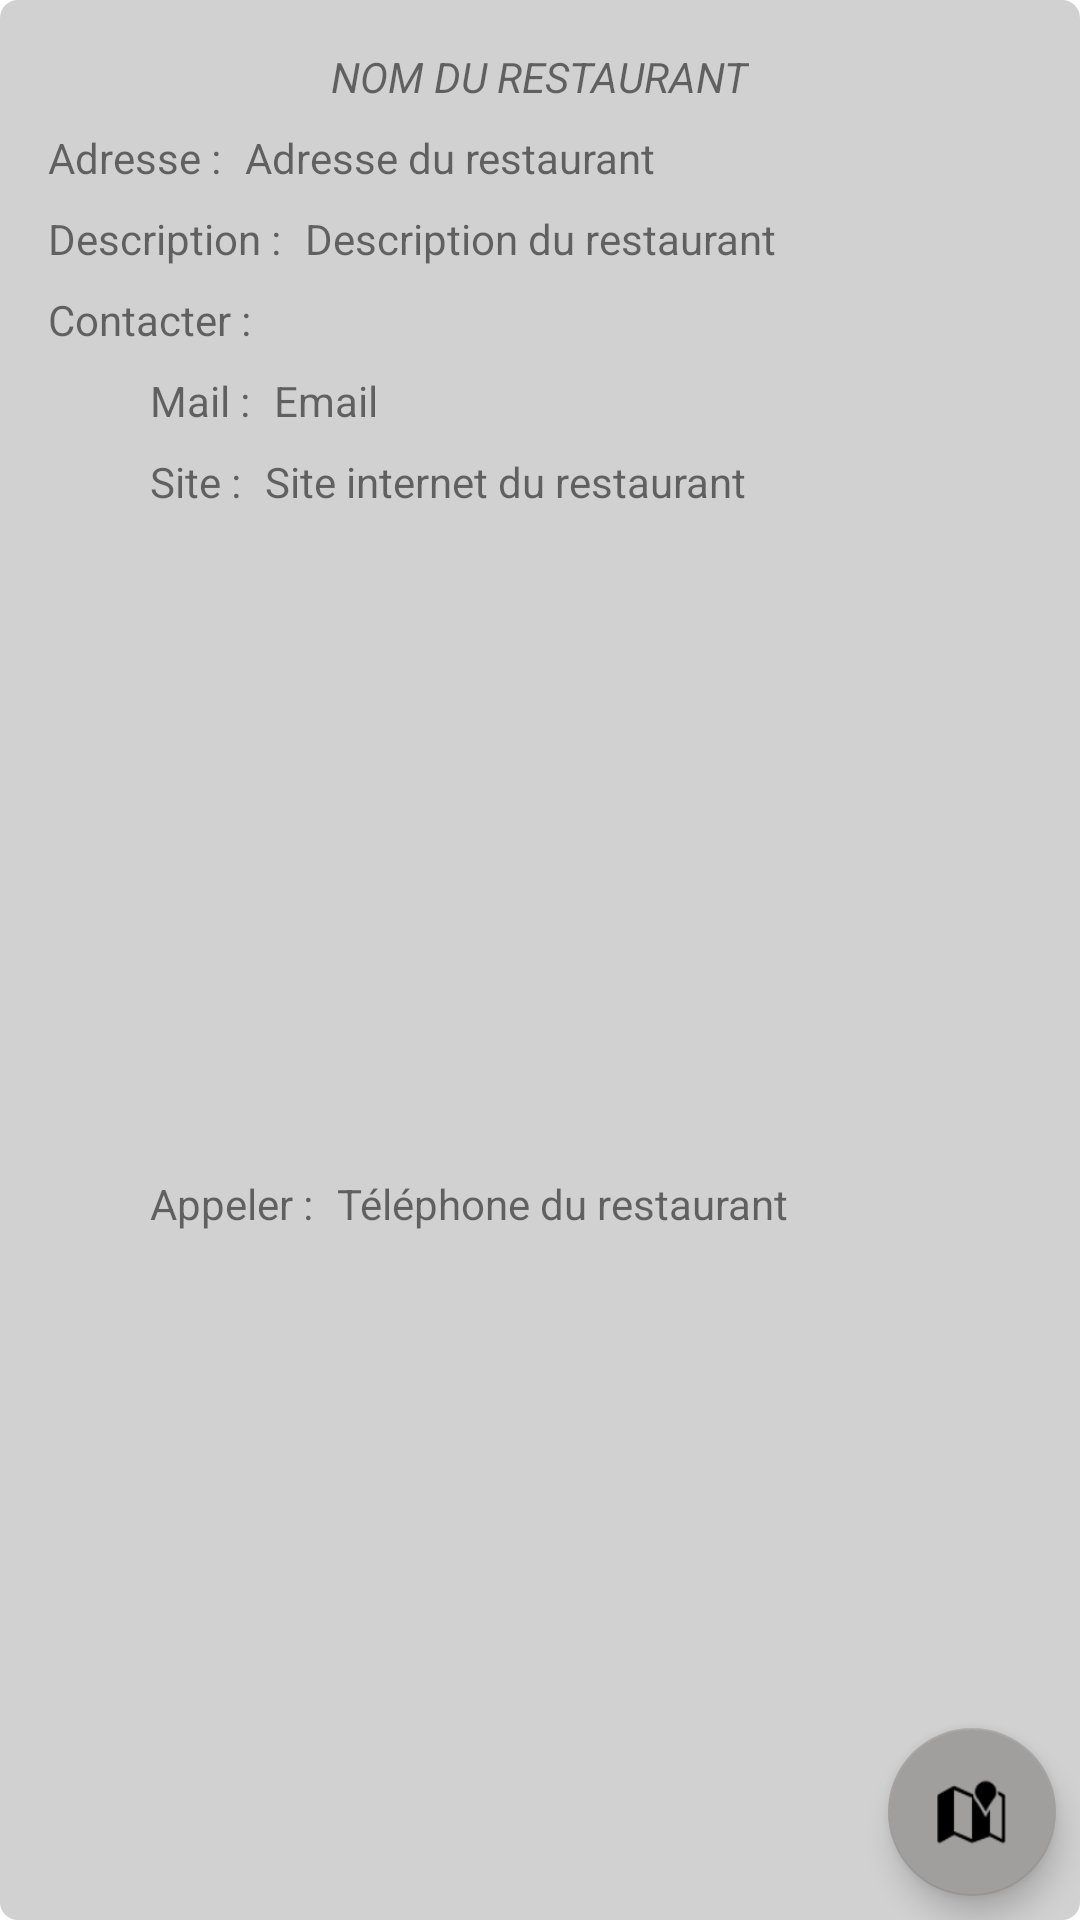

Locate icon controls on the screen. Image size 1080px×1920px, boxes as (x1, y1, x2, y2).
map: (888, 1728, 1056, 1896)
